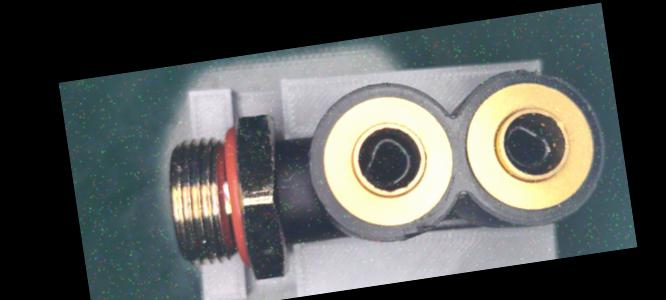bump: (510, 59, 568, 85), (395, 218, 440, 239)
joint line: (275, 182, 310, 196)
off-centered: (355, 132, 417, 193), (500, 117, 555, 176)
white mark: (278, 168, 299, 184)
